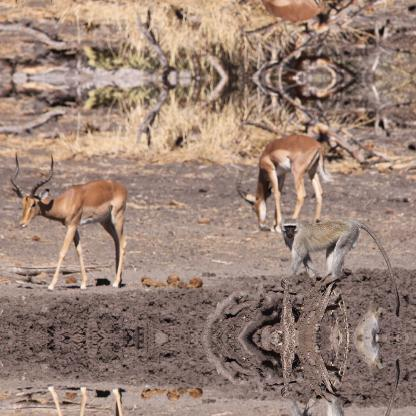Monkey: (278, 216, 384, 294), (278, 382, 384, 415)
